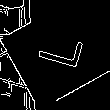L_W: (27, 33, 83, 77)
